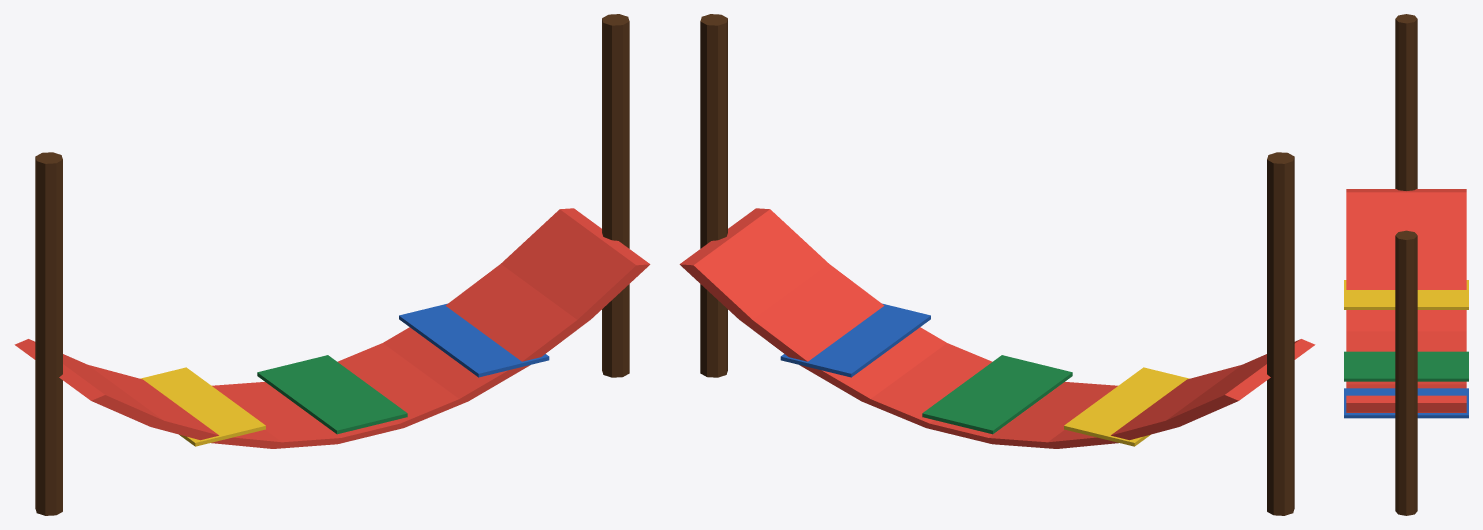
Rendered from hammock.glb.
3 renders of one model, left to right at view 1: azimuth 30°, elevation 25°; view 2: azimuth 150°, elevation 25°; view 3: azimuth 270°, elevation 25°, orthographic. The views are drawn at different scales.
Parts seen in each view (by area): view 1: Cylinder; view 2: Cylinder; view 3: Cylinder.
Boxes of the visible parts, x1,y1,x2,y2 form: Cylinder: (14, 14, 650, 515); Cylinder: (679, 14, 1315, 515); Cylinder: (1344, 14, 1468, 515).
Bounding box in the file's own units: 3.34 × 1.9 × 0.78.
